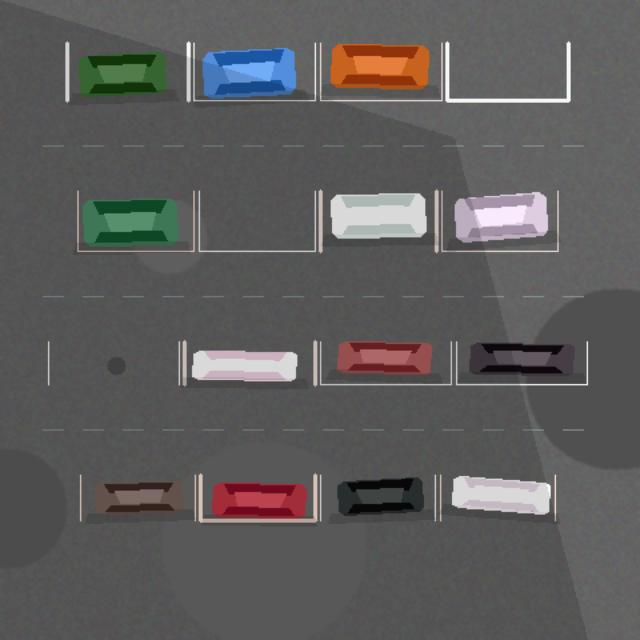space-empty: (199, 191, 315, 251), (447, 43, 568, 100), (48, 341, 179, 384)
space-occupied: (77, 191, 193, 251), (320, 191, 436, 251), (441, 191, 557, 251), (193, 43, 315, 100), (67, 43, 188, 100), (320, 43, 441, 100), (184, 341, 315, 384), (320, 341, 451, 384), (456, 341, 587, 384), (80, 475, 195, 520), (200, 475, 315, 520), (320, 475, 435, 520), (440, 475, 555, 520)
